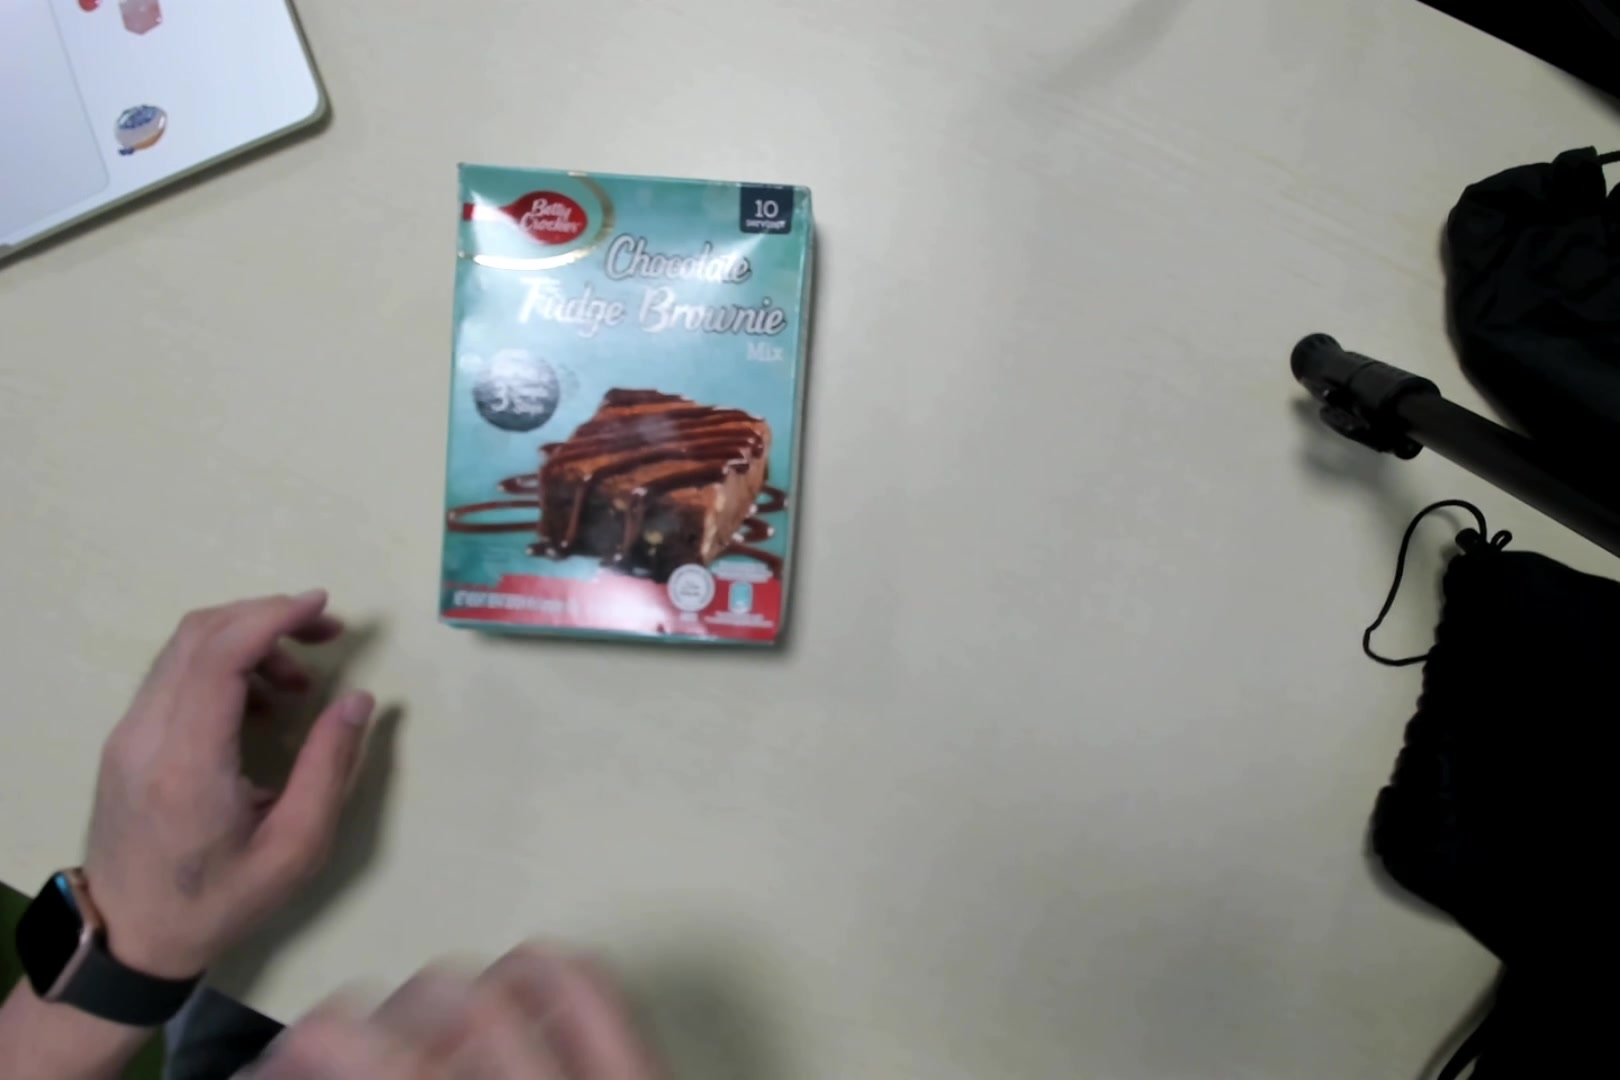OtherBakingNeeds_400-499g_Halal_NonHealthy: (438, 164, 816, 657)
